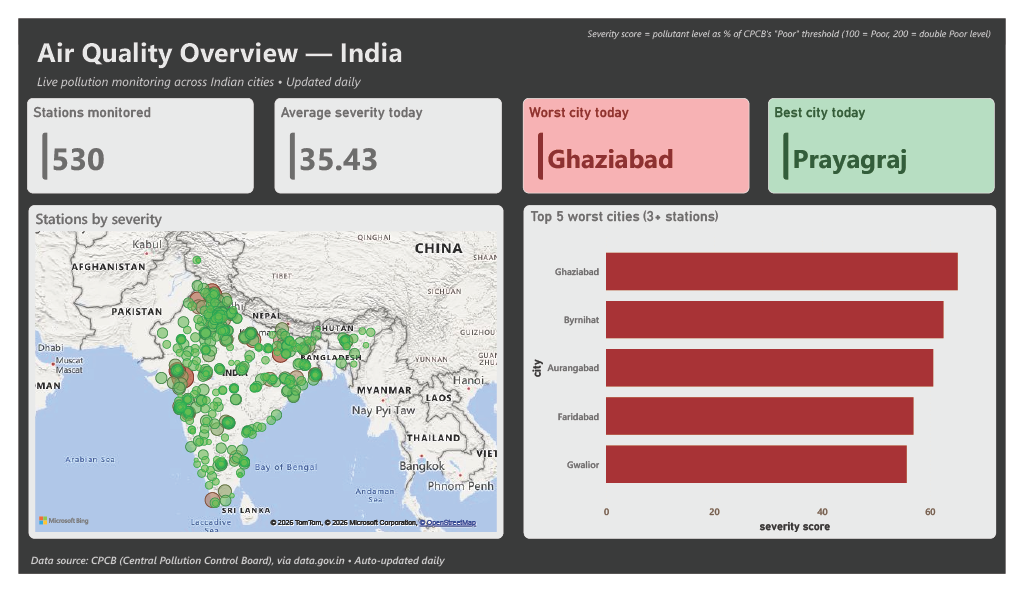

The dashboard page shown, as its layout file describes it:
{"tool":"powerbi","page":{"name":"Air Quality Overview","canvas":[1280,720],"ordinal":0},"visuals":[{"type":"textbox","title":"Air Quality Overview — India","box":[11.3,11.3,543.5,104.8],"z":0},{"type":"group","id":"g1","title":"Group 1","box":[11.1,103.4,1255,124.1],"z":1000},{"type":"cardVisual","title":"Average severity today","fields":{"Data":["aqi_project readings.Average Severity Today"]},"box":[332.4,103.4,294.3,124.1],"z":1000,"group":"g1"},{"type":"cardVisual","title":"Worst city today","fields":{"Data":["aqi_project readings.Worst City Today"]},"box":[653.7,103.4,294.3,124.1],"z":2000,"group":"g1"},{"type":"group","id":"g2","title":"Group 2","box":[12.7,241.8,1255,432.6],"z":2000},{"type":"cardVisual","title":"Best city today","fields":{"Data":["aqi_project readings.Best City Today"]},"box":[971.8,103.4,294.3,124.1],"z":3000,"group":"g1"},{"type":"textbox","title":"Data source: CPCB (Central Pollution Control Board), via data.gov.in • Auto-updated daily","box":[11.1,693.5,839.8,27],"z":3000},{"type":"textbox","title":"Severity score = pollutant level as % of CPCB''s \"Poor\" threshold (100 = Poor, 200 = double Poor level)","box":[733.3,11.1,547.2,120.9],"z":4000},{"type":"cardVisual","title":"Stations monitored","fields":{"Data":["CountNonNull(aqi_project stations.station_id)"]},"box":[11.1,103.4,294.3,124.1],"z":4000,"group":"g1"},{"type":"map","title":"Stations by severity","fields":{"Y":["aqi_project stations.latitude"],"X":["aqi_project stations.longitude"],"Size":["aqi_project readings.Average Severity Today"]},"box":[12.7,241.8,615.6,432.6],"z":5000,"group":"g2"},{"type":"clusteredBarChart","title":"Top 5 worst cities (3+ stations)","fields":{"Category":["aqi_project stations.city"],"Y":["aqi_project readings.Severity Today Reliable"]},"box":[654.8,242.2,612.9,432.4],"z":6000,"group":"g2"}]}

Visuals, with their boxes in screenshot pixels (x1, y1, x2, y2), scaled from the page's 1280x720 canvas onto the 1024x592 screenshot:
"Air Quality Overview — India" textbox: (x1=9, y1=9, x2=444, y2=95)
"Group 1" group: (x1=9, y1=85, x2=1013, y2=187)
"Average severity today" cardVisual: (x1=266, y1=85, x2=501, y2=187)
"Worst city today" cardVisual: (x1=523, y1=85, x2=758, y2=187)
"Group 2" group: (x1=10, y1=199, x2=1014, y2=555)
"Best city today" cardVisual: (x1=777, y1=85, x2=1013, y2=187)
"Data source: CPCB (Central Pollution Control Board), via data.gov.in • Auto-updated daily" textbox: (x1=9, y1=570, x2=681, y2=591)
"Severity score = pollutant level as % of CPCB''s "Poor" threshold (100 = Poor, 200 = double Poor level)" textbox: (x1=587, y1=9, x2=1023, y2=109)
"Stations monitored" cardVisual: (x1=9, y1=85, x2=244, y2=187)
"Stations by severity" map: (x1=10, y1=199, x2=503, y2=555)
"Top 5 worst cities (3+ stations)" clusteredBarChart: (x1=524, y1=199, x2=1014, y2=555)
